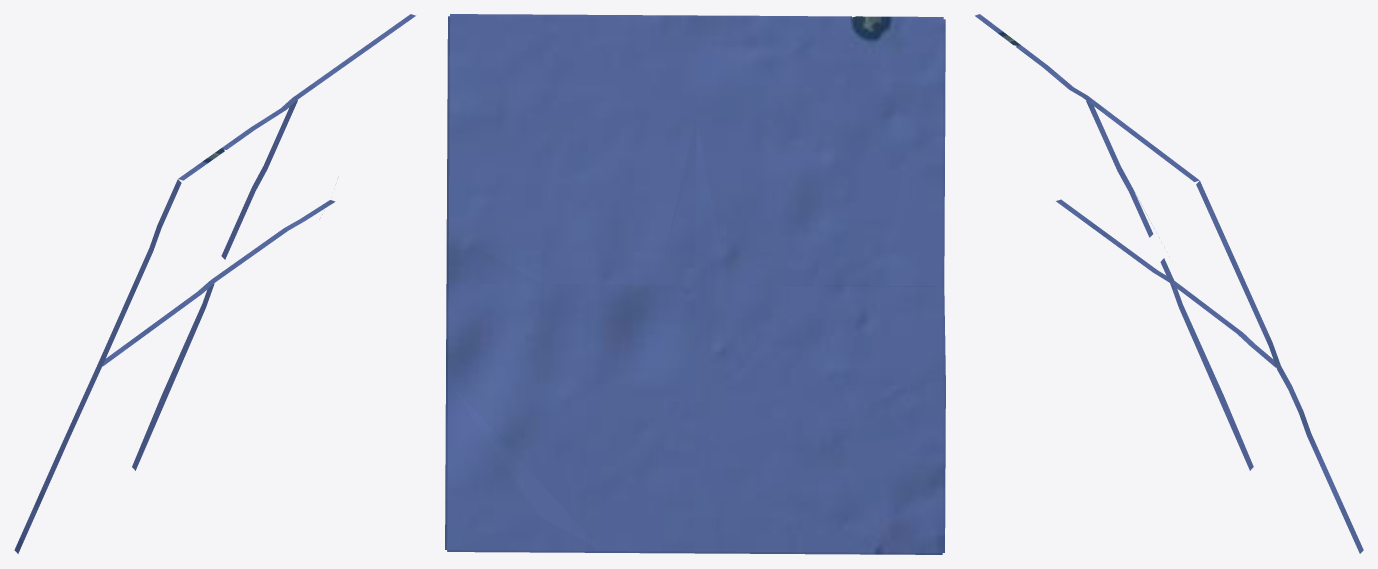
3 renders of one model, left to right at view 1: azimuth 30°, elevation 25°; view 2: azimuth 150°, elevation 25°; view 3: azimuth 270°, elevation 25°, orthographic. The views are drawn at different scales.
Size of the model in its own units: 78734 by 72849 by 62408.
1 material, 1 textured.
